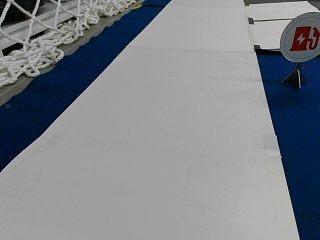battery: (280, 11, 320, 62)
